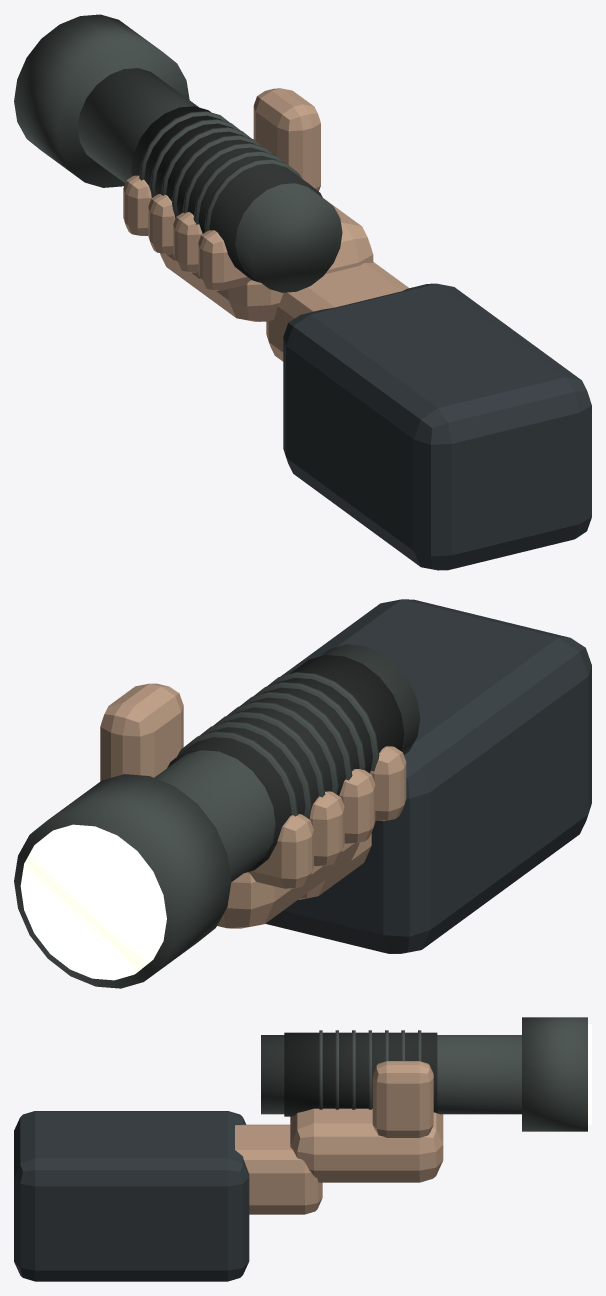
Rendered from player-hands.glb.
3 views of the same model, one above another, from view 1: azimuth 30°, elevation 25°; view 2: azimuth 150°, elevation 25°; view 3: azimuth 270°, elevation 25° (orthographic). The views are drawn at different scales.
Parts seen in each view (by area): view 1: Dark sleeve, Flashlight body, Flashlight head, Flashlight grip, Thumb, Wrist, Palm, Finger.003, Finger, Finger.002, Finger.001, Grip ring.003 (+2 smaller); view 2: Dark sleeve, Flashlight lens, Flashlight head, Flashlight grip, Flashlight body, Thumb, Palm, Finger, Finger.002, Finger.001, Finger.003, Grip ring.001 (+7 smaller); view 3: Dark sleeve, Palm, Flashlight body, Flashlight grip, Flashlight head, Wrist, Thumb, Flashlight lens.
Part boxes in pixels (bbox=[...]): Dark sleeve: bbox=[283, 283, 591, 570]; Flashlight body: bbox=[78, 68, 342, 292]; Flashlight head: bbox=[14, 14, 189, 187]; Flashlight grip: bbox=[131, 106, 322, 282]; Thumb: bbox=[253, 88, 320, 191]; Wrist: bbox=[266, 262, 408, 361]; Palm: bbox=[160, 198, 373, 321]; Finger.003: bbox=[198, 230, 251, 290]; Finger: bbox=[123, 175, 151, 235]; Finger.002: bbox=[173, 212, 202, 272]; Finger.001: bbox=[148, 194, 175, 254]; Grip ring.003: bbox=[171, 135, 262, 218]; Dark sleeve: bbox=[265, 599, 591, 953]; Flashlight lens: bbox=[20, 824, 166, 980]; Flashlight head: bbox=[14, 774, 231, 988]; Flashlight grip: bbox=[167, 655, 404, 873]; Flashlight body: bbox=[154, 644, 420, 881]; Thumb: bbox=[100, 683, 183, 781]; Palm: bbox=[217, 842, 359, 928]; Finger: bbox=[248, 814, 313, 888]; Finger.002: bbox=[339, 769, 375, 843]; Finger.001: bbox=[309, 791, 344, 866]; Finger.003: bbox=[370, 746, 406, 821]; Grip ring.001: bbox=[199, 721, 311, 819]; Dark sleeve: bbox=[14, 1111, 249, 1281]; Palm: bbox=[290, 1108, 443, 1182]; Flashlight body: bbox=[261, 1035, 521, 1114]; Flashlight grip: bbox=[284, 1032, 437, 1116]; Flashlight head: bbox=[522, 1017, 587, 1131]; Wrist: bbox=[235, 1124, 322, 1214]; Thumb: bbox=[372, 1061, 433, 1137]; Flashlight lens: bbox=[588, 1024, 591, 1124].
Size of the model in its own units: 0.155 by 0.2015 by 0.4915.
